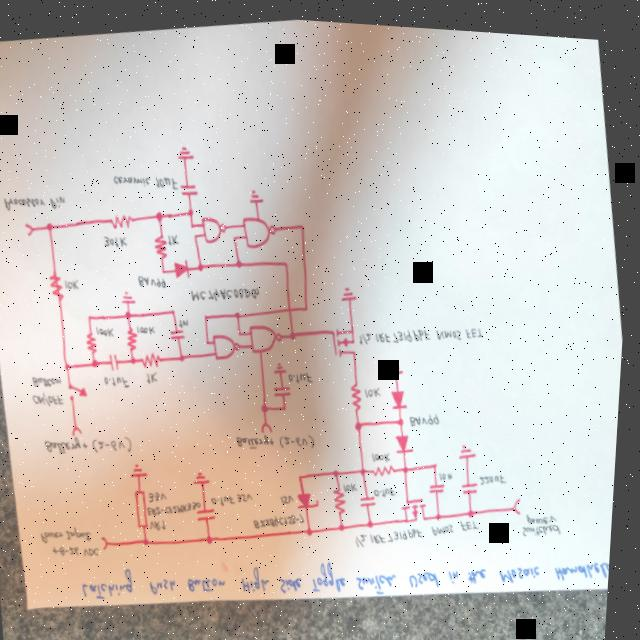capacitor: (201, 503, 224, 521), (181, 178, 202, 197), (464, 473, 485, 491), (276, 379, 297, 395), (112, 350, 126, 372), (364, 489, 384, 504), (433, 475, 451, 490), (172, 325, 190, 340)
crossover: (288, 300, 298, 311)
diode: (301, 486, 327, 507), (398, 427, 421, 450), (175, 255, 196, 280), (393, 383, 414, 406)
ground: (341, 279, 362, 300), (176, 141, 197, 161), (134, 459, 155, 478), (462, 435, 483, 454), (249, 183, 268, 203), (391, 354, 410, 373), (122, 287, 141, 306), (197, 466, 217, 484), (277, 356, 292, 372)
junction: (209, 529, 222, 543), (156, 207, 168, 221), (47, 220, 59, 234), (358, 414, 369, 427), (264, 399, 275, 411), (94, 356, 104, 368), (198, 259, 208, 271), (237, 255, 247, 267), (148, 534, 158, 546), (128, 307, 138, 319), (292, 325, 301, 338), (311, 522, 321, 533), (132, 354, 142, 365), (401, 410, 410, 422), (472, 500, 481, 512), (337, 463, 346, 475), (407, 458, 416, 470), (237, 307, 246, 318), (182, 350, 191, 361), (68, 360, 76, 372), (372, 514, 381, 524), (440, 506, 449, 516), (300, 218, 309, 228), (364, 461, 372, 472), (285, 255, 293, 266), (305, 299, 313, 310), (344, 518, 352, 528), (189, 205, 197, 215), (233, 230, 241, 240), (173, 305, 181, 315), (191, 219, 199, 228), (437, 455, 444, 465), (90, 312, 97, 322), (194, 230, 202, 238), (303, 469, 310, 478), (286, 400, 293, 409), (164, 266, 170, 273), (241, 327, 246, 334), (207, 311, 212, 317), (209, 337, 214, 343)
resistor: (138, 485, 157, 527), (110, 210, 139, 231), (51, 272, 70, 302), (353, 376, 369, 408), (155, 232, 173, 260), (377, 456, 403, 475), (338, 482, 355, 511), (144, 348, 167, 369), (128, 326, 144, 349), (88, 330, 104, 352)
source: (264, 416, 280, 433)
switch: (71, 379, 94, 401)
terminal: (75, 421, 90, 438), (26, 220, 40, 238), (517, 490, 529, 510), (106, 532, 117, 550)
text: (84, 494, 617, 640), (359, 506, 488, 549), (361, 311, 489, 350), (191, 277, 266, 307), (5, 189, 70, 217), (46, 520, 101, 546), (259, 505, 312, 530), (58, 537, 109, 562), (48, 432, 96, 458), (152, 495, 208, 517), (96, 431, 141, 457), (240, 427, 282, 450), (283, 426, 324, 449), (114, 168, 154, 190), (36, 388, 71, 410), (527, 513, 567, 532), (35, 372, 68, 392), (413, 405, 446, 424), (290, 363, 319, 384), (140, 270, 170, 290), (482, 463, 513, 482), (531, 503, 564, 520), (107, 370, 136, 389), (156, 171, 183, 190), (105, 231, 132, 249), (216, 489, 241, 506), (99, 321, 120, 340), (153, 514, 174, 531), (153, 487, 175, 503), (379, 479, 402, 494), (368, 380, 388, 396), (377, 444, 397, 460), (140, 321, 161, 336), (66, 276, 84, 291), (284, 488, 301, 503), (242, 487, 260, 500), (169, 230, 184, 245), (348, 475, 364, 489), (150, 368, 164, 383), (444, 464, 460, 477), (181, 315, 193, 326)
transistor: (332, 318, 364, 357), (405, 490, 435, 519)
